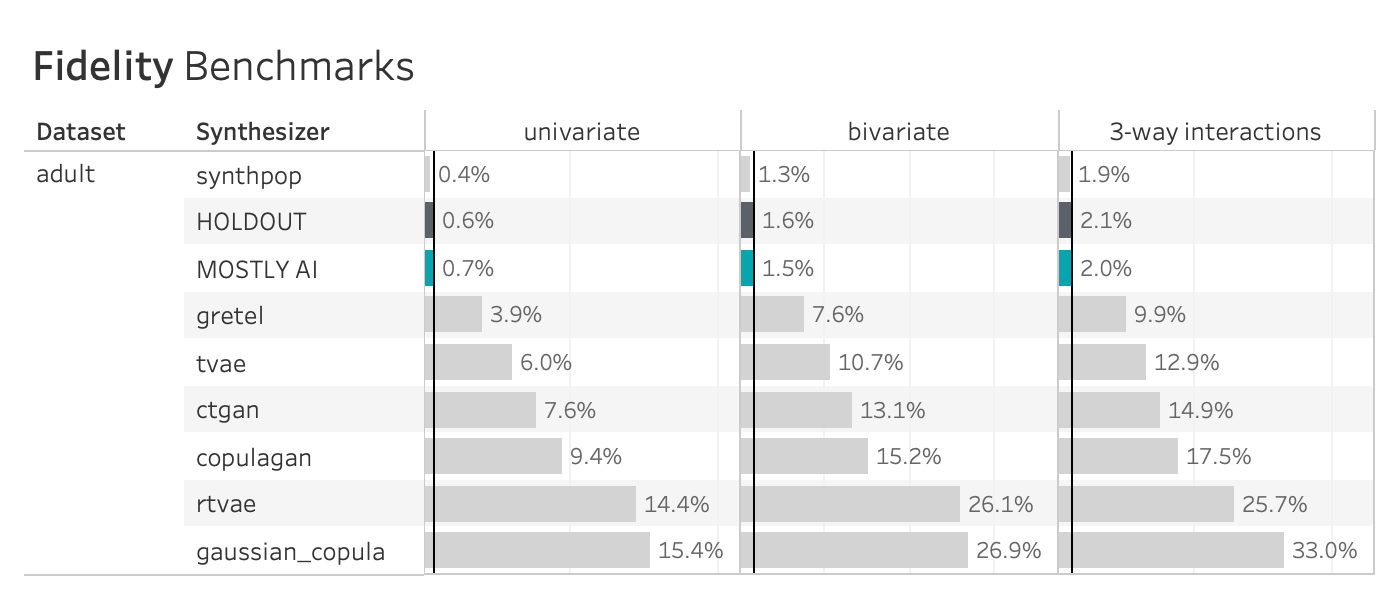

The dashboard page shown, as its layout file describes it:
{"tool":"tableau","page":{"name":"fidelity_adult","canvas":[700,300],"ordinal":2},"visuals":[{"type":"worksheet","title":"Sheet 2 (2)","mark":"Automatic","rows":["dataset","synthesizer"],"cols":["Calculation_1058205215610793986","tvd"],"box":[8,8,684,284]}]}

Visuals, with their boxes in screenshot pixels (x1, y1, x2, y2), scaled from the page's 700x300 canvas onto the 1400x600 screenshot:
"Sheet 2 (2)" worksheet: 16:16:1384:584
